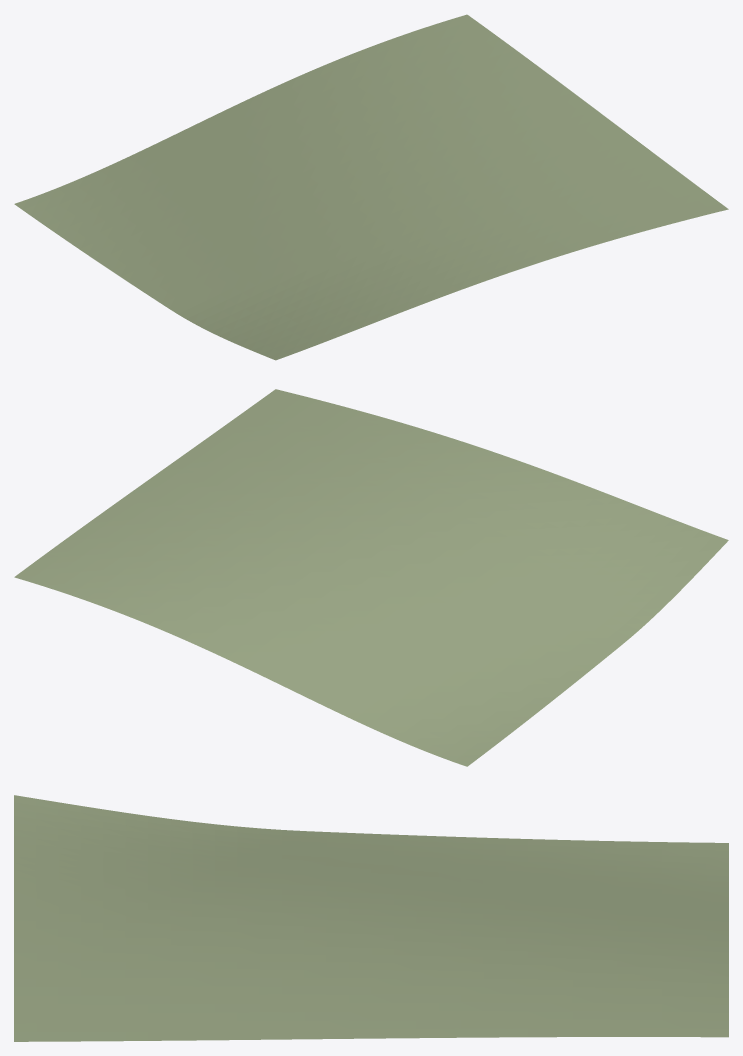
File: expanse-5-30.glb
The picture shows the model from 3 angles, top to bottom: view 1: azimuth 30°, elevation 25°; view 2: azimuth 150°, elevation 25°; view 3: azimuth 270°, elevation 25°; orthographic projection. The views are drawn at different scales.
Parts seen in each view (by area): view 1: expanse-5-30; view 2: expanse-5-30; view 3: expanse-5-30.
Part boxes in pixels (x1,y1,x2,y2): expanse-5-30: (14, 14, 728, 360); expanse-5-30: (14, 389, 728, 766); expanse-5-30: (14, 795, 728, 1041).
Bounding box in the file's own units: 256 × 42.73 × 256.
